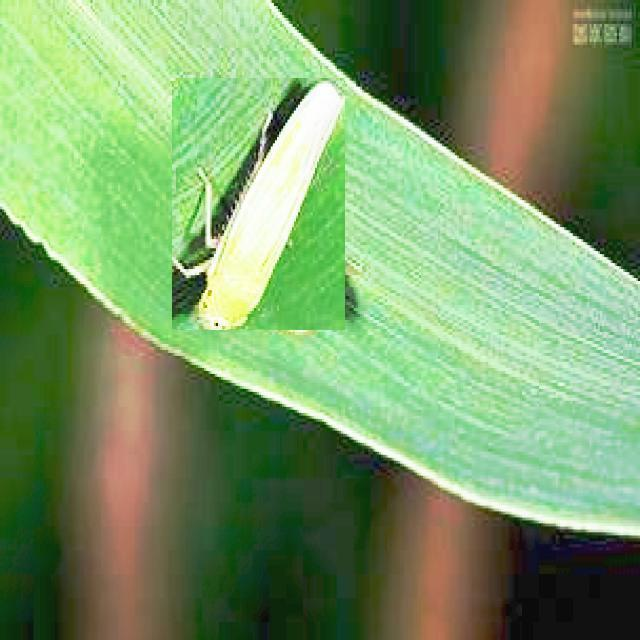green-leafhopper: (172, 78, 345, 330)
